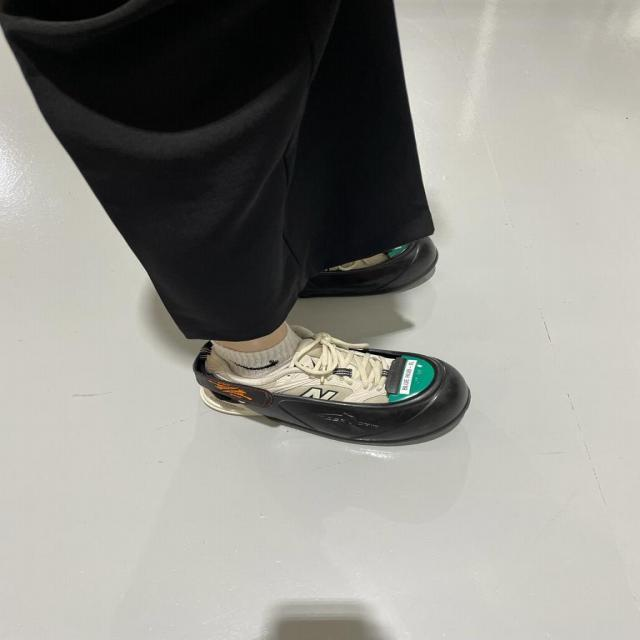shoes: (192, 329, 480, 443), (289, 240, 449, 301)
